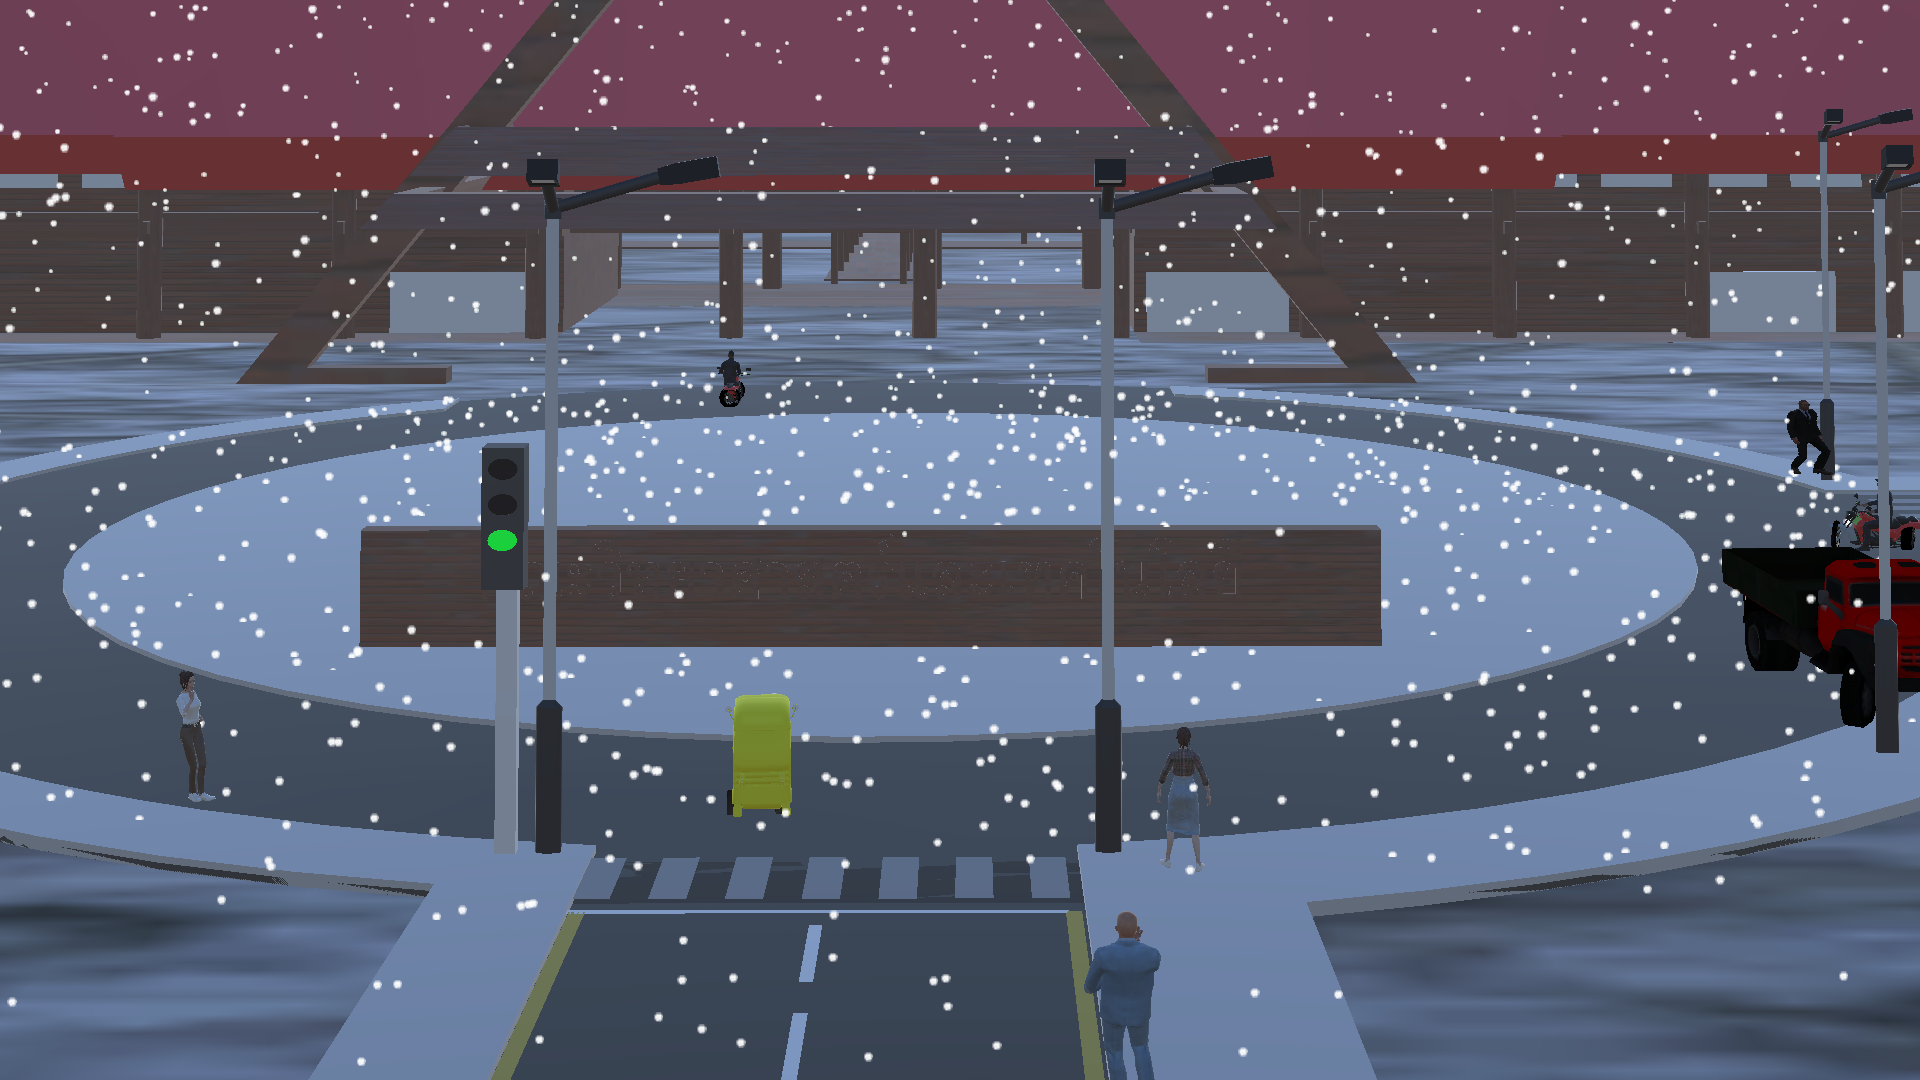pedestrian: (1082, 908, 1172, 1073), (1151, 716, 1217, 878), (170, 665, 234, 806), (1786, 391, 1829, 487)
